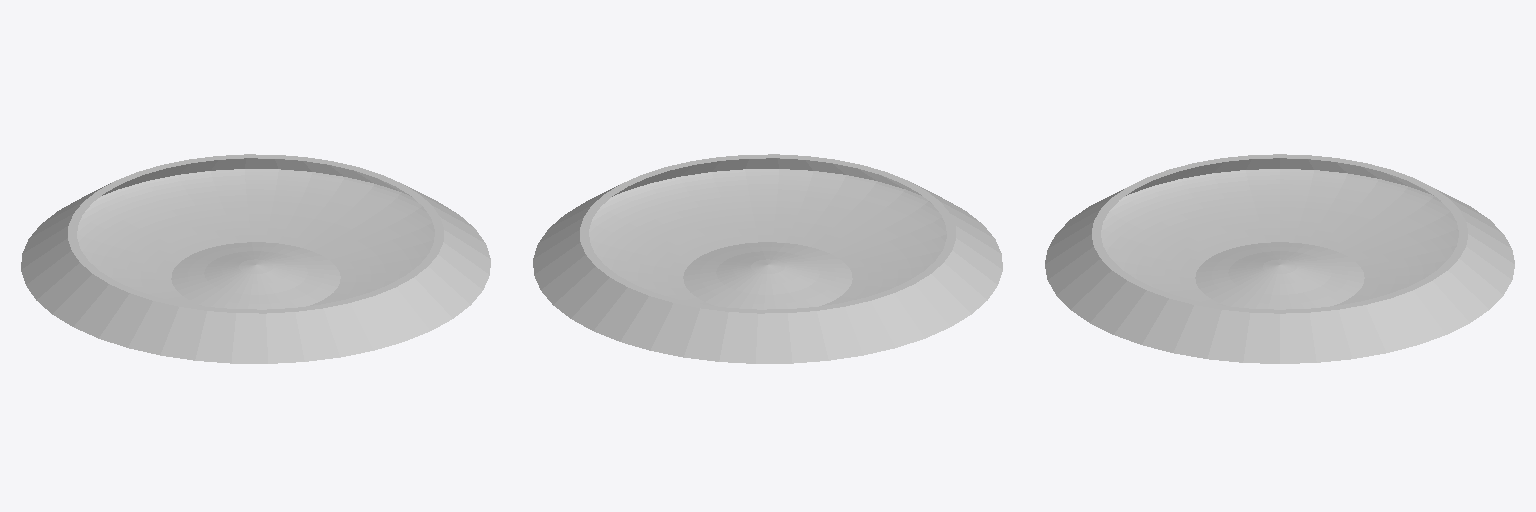
File: bowl.obj
The picture shows the model from 3 angles: view 1: azimuth 30°, elevation 25°; view 2: azimuth 150°, elevation 25°; view 3: azimuth 270°, elevation 25°; orthographic projection.
Parts seen in each view (by area): view 1: polySurface1; view 2: polySurface1; view 3: polySurface1.
Part boxes in pixels (left/top/right/bottom): polySurface1: left=21, top=154, right=490, bottom=363; polySurface1: left=533, top=154, right=1002, bottom=363; polySurface1: left=1045, top=154, right=1514, bottom=363.
Bounding box in the file's own units: 25.5 × 2.63 × 25.5.